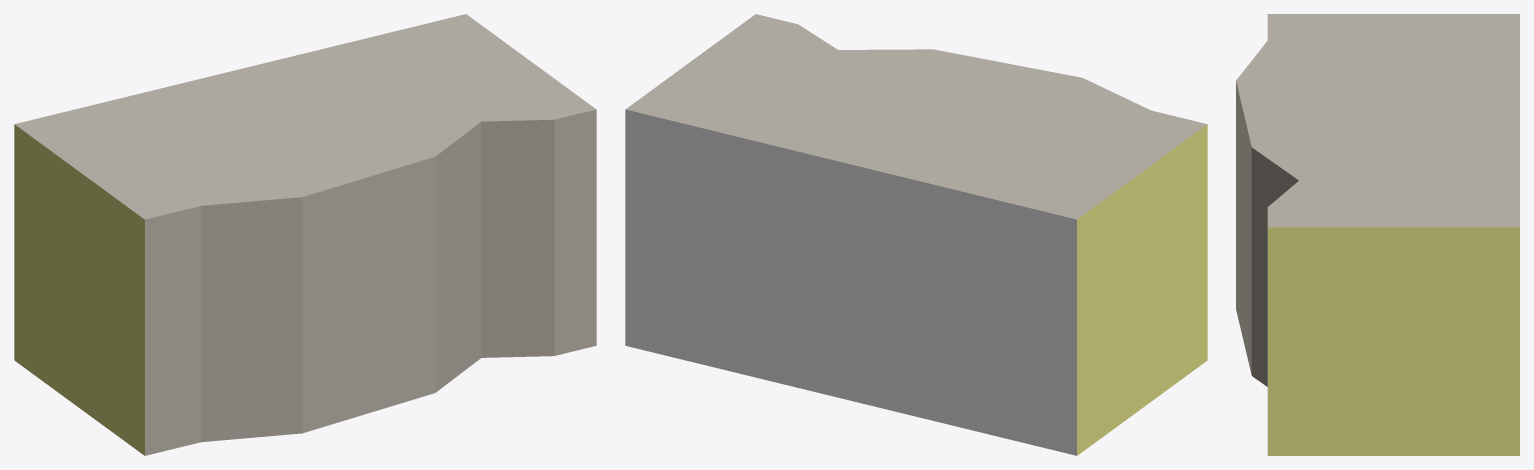
The model's file is Cracked_Straight_2x2_1_Mid.glb.
3 renders of one model, left to right at view 1: azimuth 30°, elevation 25°; view 2: azimuth 150°, elevation 25°; view 3: azimuth 270°, elevation 25°, orthographic. The views are drawn at different scales.
Visible parts, largest first — view 1: Cracked_Straight_2x2_1_Mid; view 2: Cracked_Straight_2x2_1_Mid; view 3: Cracked_Straight_2x2_1_Mid.
Boxes of the visible parts, box(x1,y1,x2,y2) form: Cracked_Straight_2x2_1_Mid: box(14, 14, 596, 455); Cracked_Straight_2x2_1_Mid: box(625, 14, 1207, 455); Cracked_Straight_2x2_1_Mid: box(1236, 14, 1519, 455).
Size of the model in its own units: 200 by 100 by 113.
